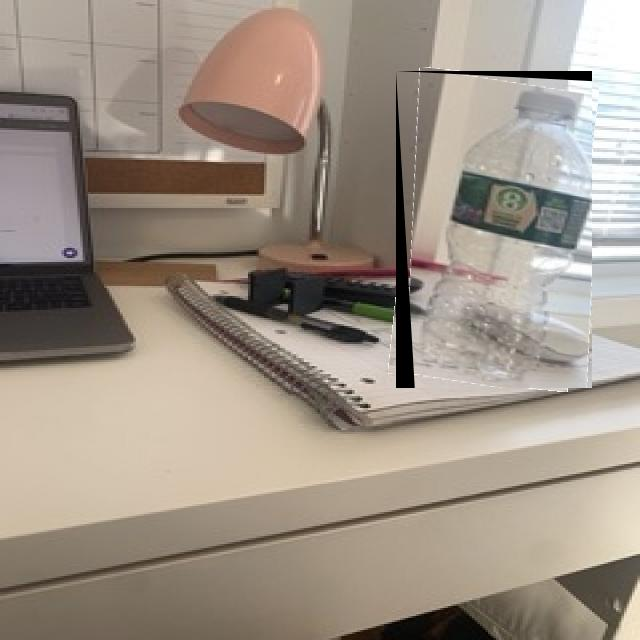water_bottle: (396, 71, 592, 388)
